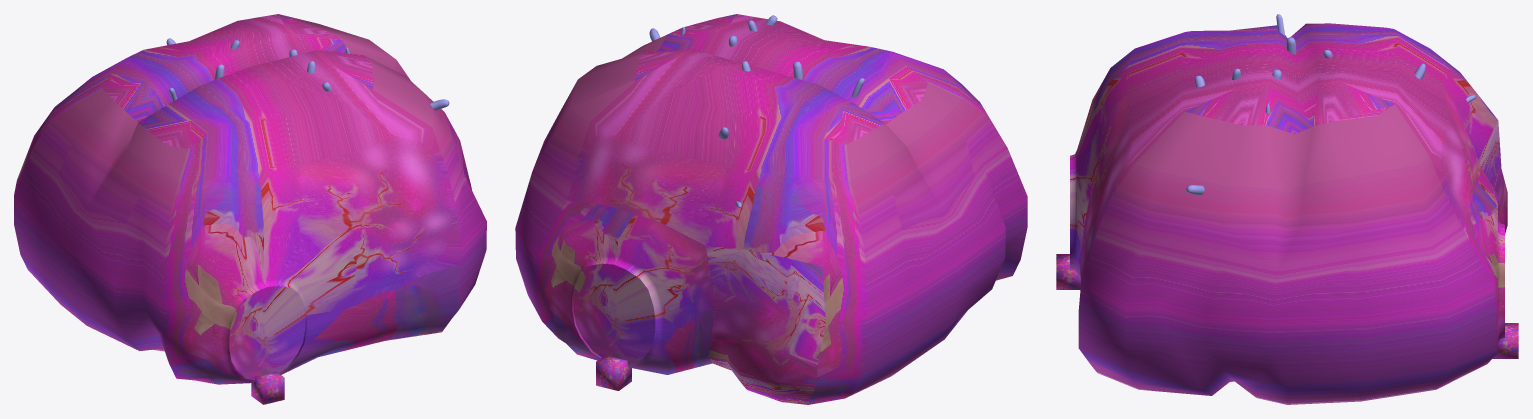
The model's file is HeartRoom.fbx.
3 renders of one model, left to right at view 1: azimuth 30°, elevation 25°; view 2: azimuth 150°, elevation 25°; view 3: azimuth 270°, elevation 25°, orthographic. The views are drawn at different scales.
Visible parts, largest first — view 1: HeartRoom001, HeartRoom_door1, HeartRoom_doorSnap1, Heart; view 2: HeartRoom001, HeartRoom_door2, HeartRoom_doorSnap2, Heart; view 3: HeartRoom001, Heart, HeartRoom_doorSnap1, HeartRoom_doorSnap2.
Boxes of the visible parts, box(x1,y1,x2,y2) form: HeartRoom001: box(14, 14, 486, 384); HeartRoom_door1: box(229, 286, 305, 380); HeartRoom_doorSnap1: box(251, 371, 284, 404); Heart: box(166, 38, 449, 110); HeartRoom001: box(515, 14, 1027, 404); HeartRoom_door2: box(573, 263, 655, 364); HeartRoom_doorSnap2: box(596, 355, 631, 390); Heart: box(649, 15, 864, 207); HeartRoom001: box(1070, 23, 1507, 404); Heart: box(1186, 14, 1476, 195); HeartRoom_doorSnap1: box(1056, 254, 1080, 289); HeartRoom_doorSnap2: box(1492, 323, 1518, 358).
Size of the model in its own units: 1745 by 1138 by 1700.
